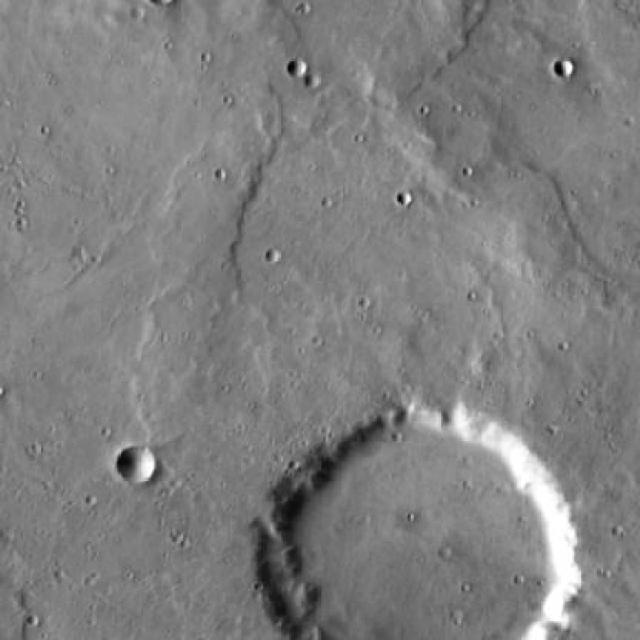crater: (253, 403, 573, 640), (116, 448, 152, 484), (289, 56, 309, 78), (556, 62, 573, 78)
